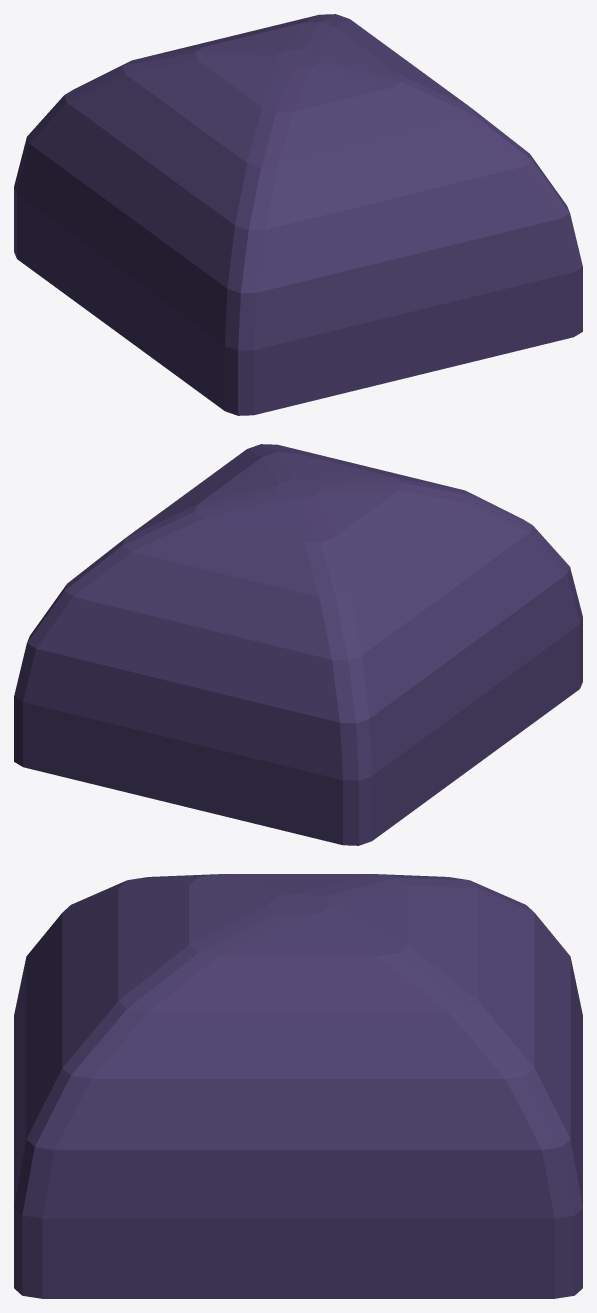
File: Toit_A.fbx
3 renders of one model, top to bottom at view 1: azimuth 30°, elevation 25°; view 2: azimuth 150°, elevation 25°; view 3: azimuth 270°, elevation 25°, orthographic. The views are drawn at different scales.
Visible parts, largest first — view 1: Cube; view 2: Cube; view 3: Cube.
Part boxes in pixels (x1,y1,x2,y2): Cube: [14, 14, 582, 415]; Cube: [14, 444, 582, 845]; Cube: [14, 874, 582, 1298].
Bounding box in the file's own units: 288 × 180 × 324.
